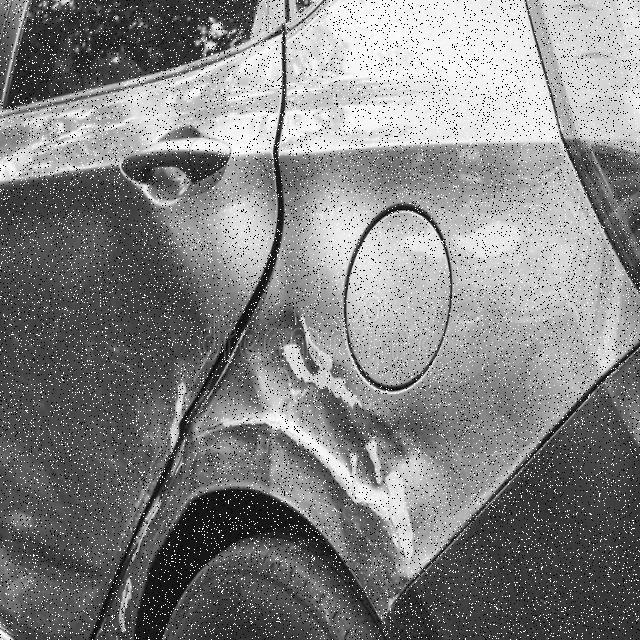doorouter-dent: (0, 38, 208, 458)
quaterpanel-dent: (273, 11, 552, 638)
